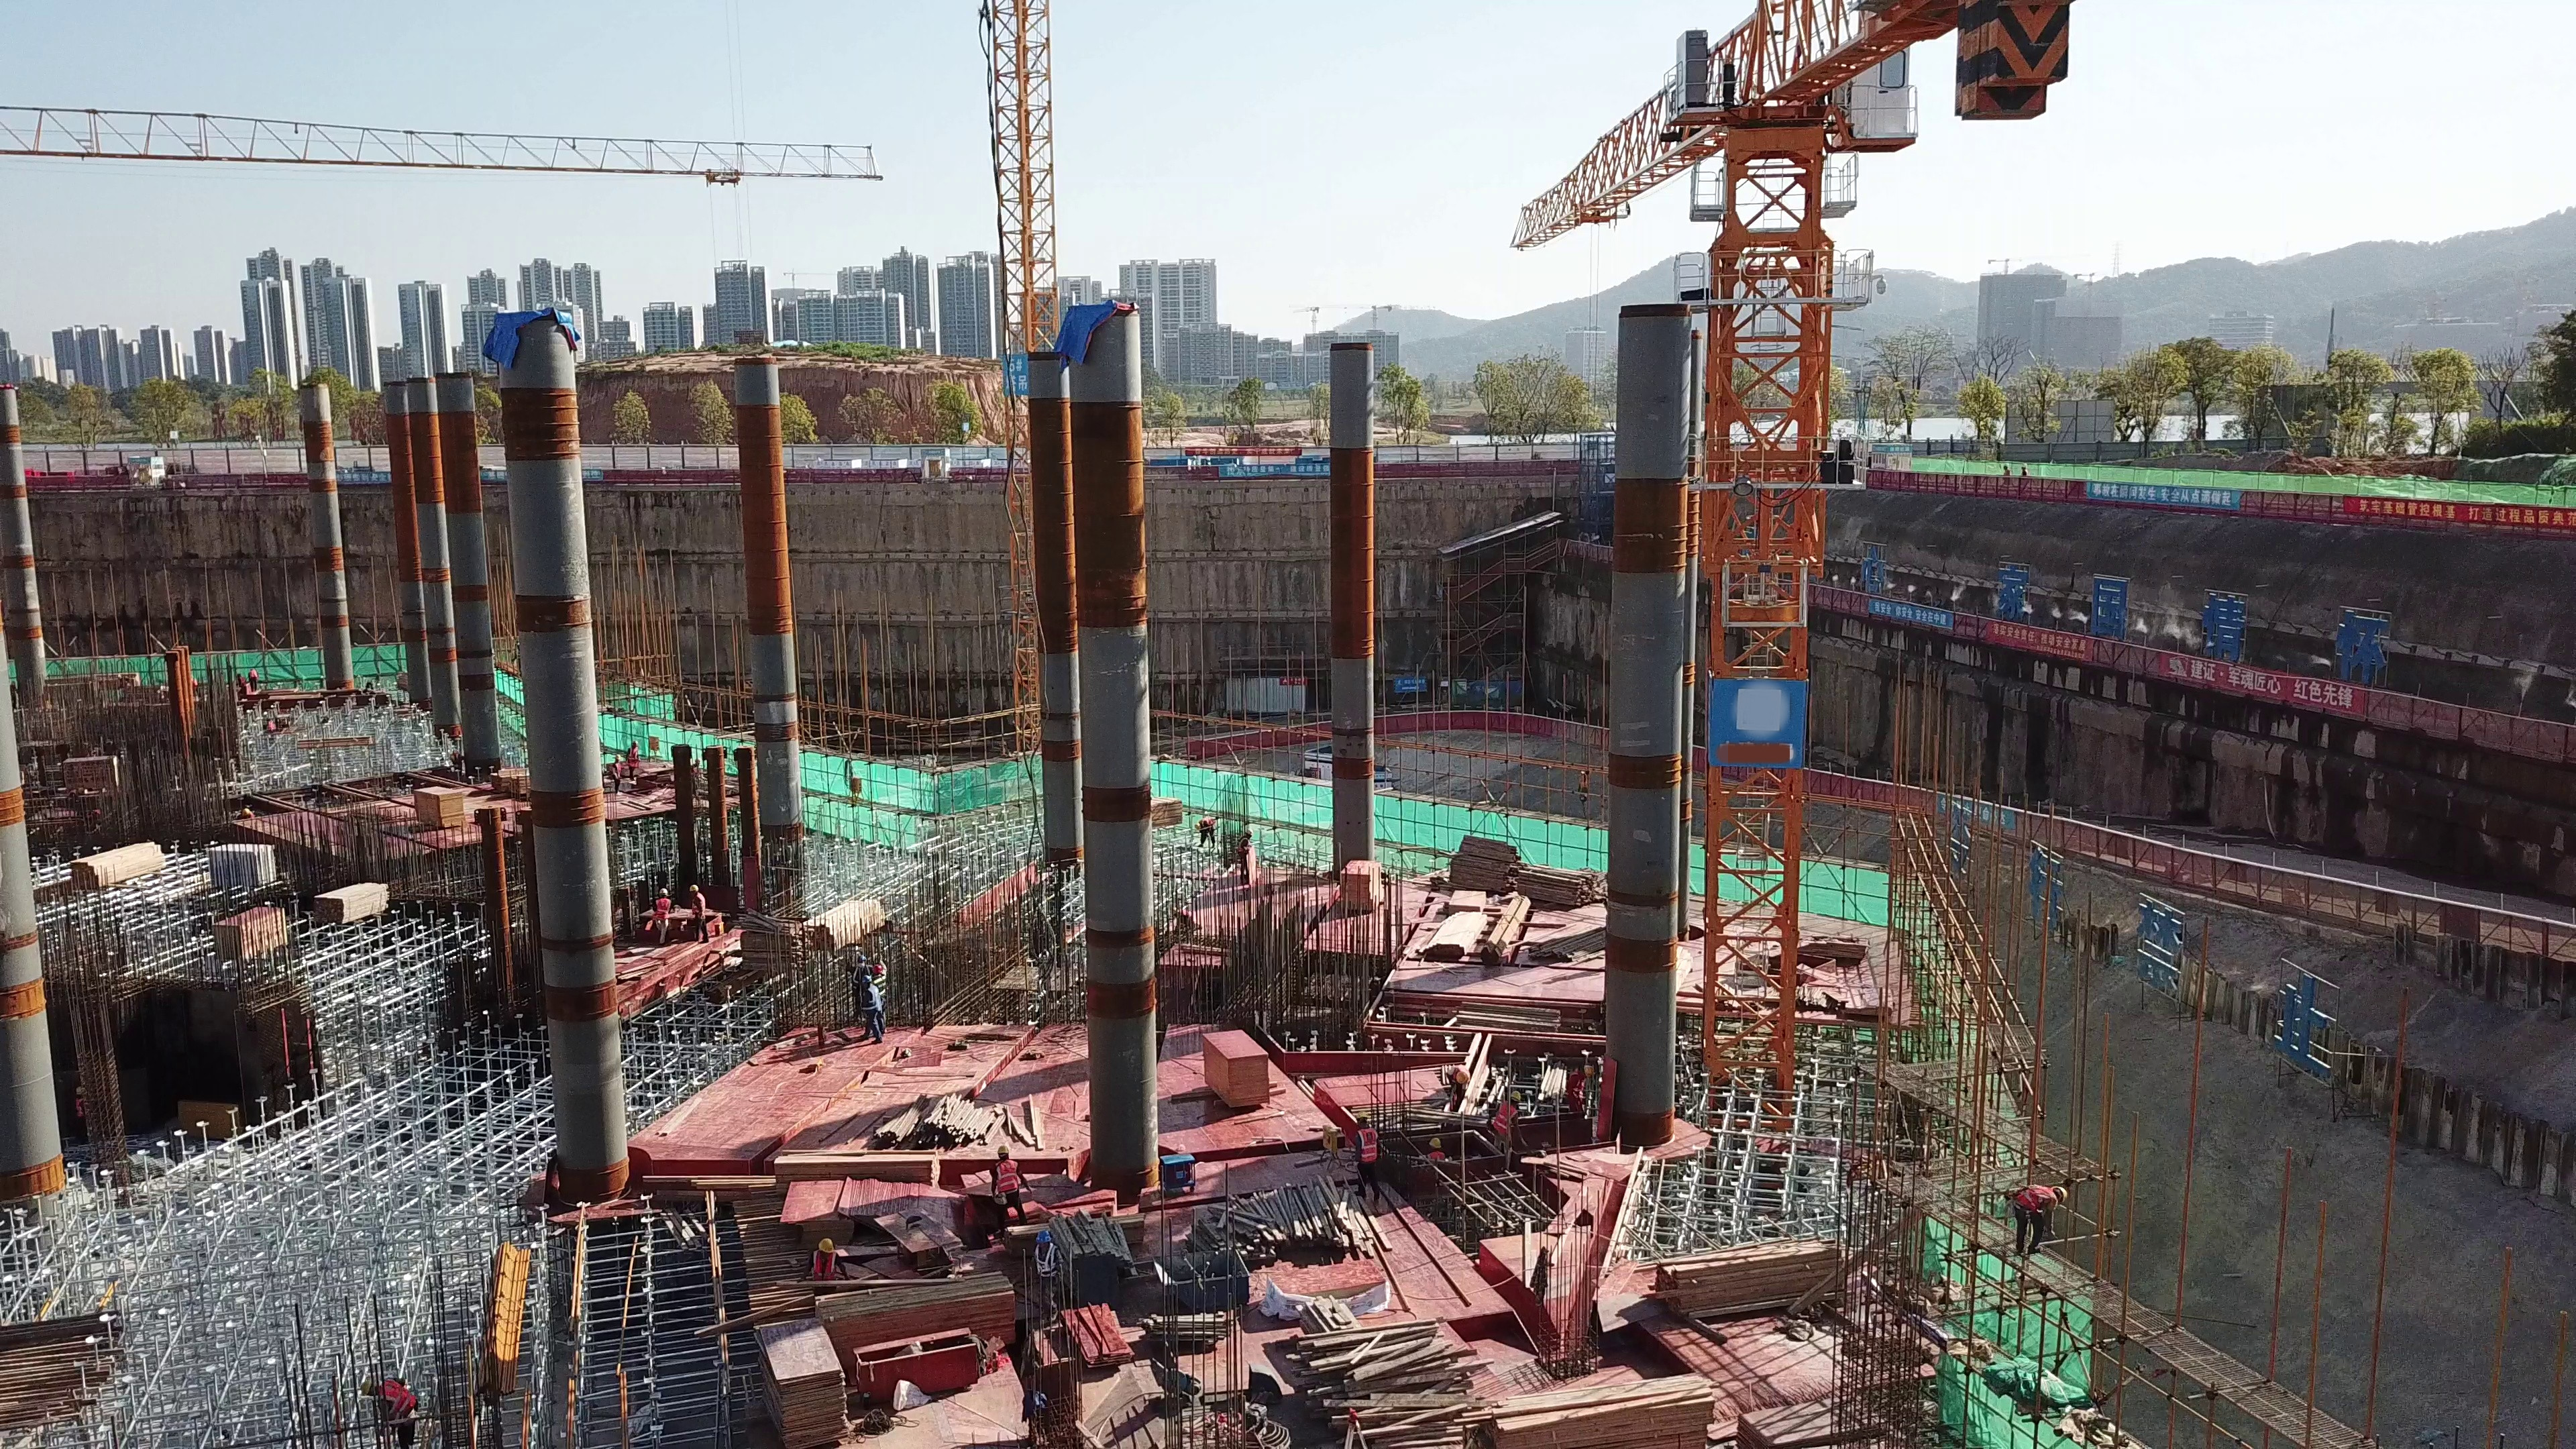helmet: (1031, 1226, 1052, 1244), (1352, 1104, 1373, 1122), (816, 1233, 833, 1252), (357, 1375, 372, 1397), (1427, 1135, 1443, 1149), (1510, 1085, 1523, 1102), (1456, 1068, 1470, 1082), (1582, 1065, 1595, 1077), (996, 1142, 1009, 1155), (657, 885, 668, 896), (1246, 825, 1256, 836), (688, 883, 698, 893), (614, 753, 621, 761), (631, 739, 639, 746), (243, 807, 250, 814), (1193, 824, 1202, 830)
person: (2008, 1180, 2070, 1263), (359, 1377, 427, 1446), (1347, 1110, 1388, 1209), (1029, 1231, 1071, 1324), (991, 1144, 1029, 1230), (800, 1238, 847, 1289), (1491, 1090, 1523, 1167), (858, 973, 884, 1045), (1565, 1059, 1597, 1112), (687, 882, 714, 947), (847, 951, 871, 1017), (872, 961, 896, 1024), (653, 887, 674, 949), (1444, 1063, 1472, 1105), (1237, 829, 1256, 888), (621, 738, 645, 782), (1172, 901, 1203, 934), (1192, 814, 1219, 848), (606, 752, 625, 795), (1420, 1136, 1447, 1163), (445, 745, 468, 775), (690, 757, 705, 796), (1575, 769, 1593, 801), (247, 665, 265, 696), (504, 641, 524, 669), (232, 669, 248, 698), (237, 808, 258, 822)
vest: (378, 1377, 425, 1417), (1032, 1246, 1059, 1283), (1493, 1102, 1519, 1138), (1357, 1128, 1382, 1164), (997, 1162, 1022, 1192), (814, 1256, 840, 1283), (1567, 1071, 1585, 1102), (691, 894, 706, 918), (655, 899, 669, 920), (611, 762, 623, 781), (628, 747, 639, 766), (1239, 837, 1249, 855), (1201, 816, 1216, 826), (235, 677, 247, 688), (690, 765, 700, 777), (250, 670, 258, 680)
